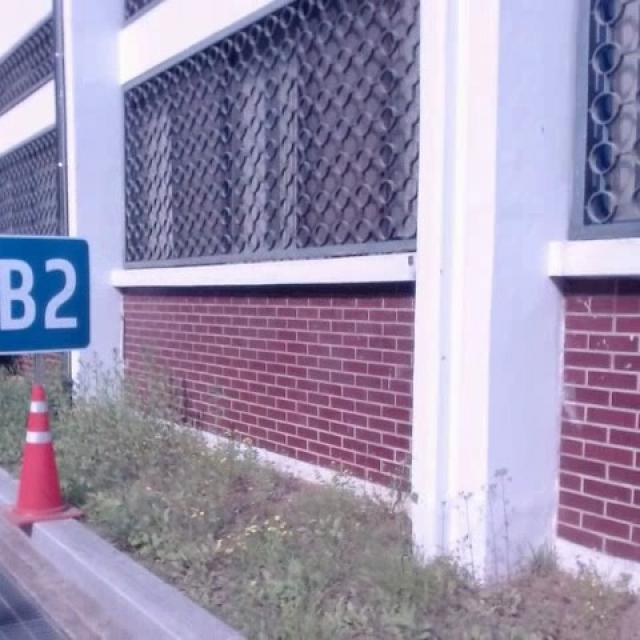b2: (0, 234, 96, 354)
